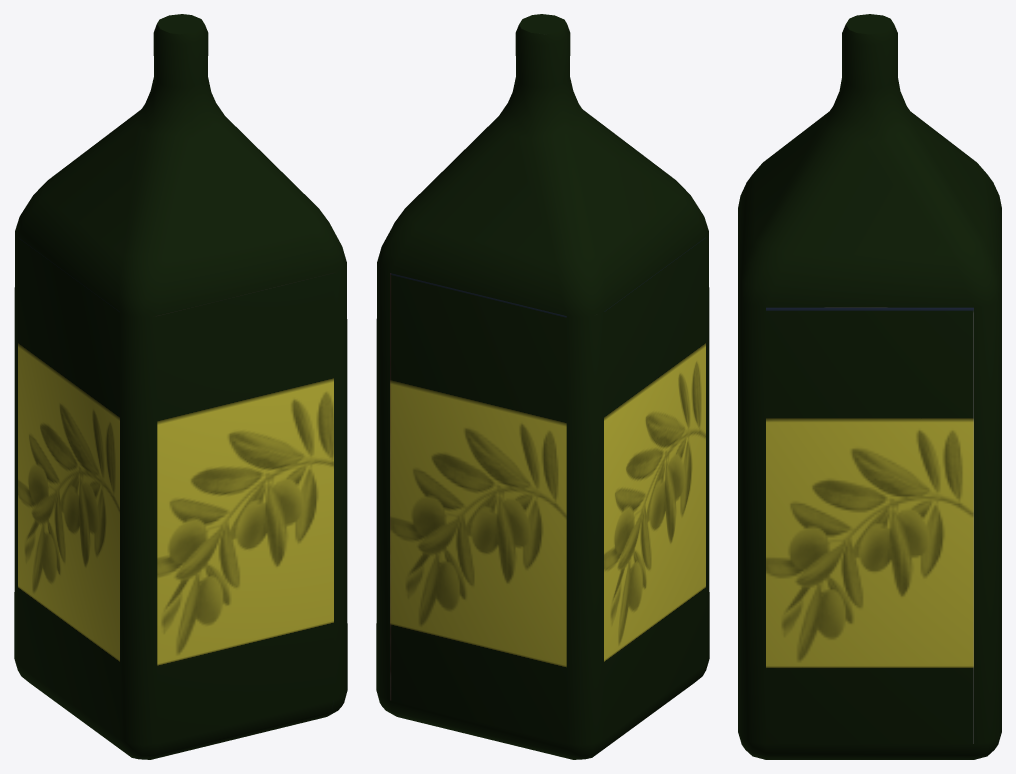
File: oil.fbx
3 renders of one model, left to right at view 1: azimuth 30°, elevation 25°; view 2: azimuth 150°, elevation 25°; view 3: azimuth 270°, elevation 25°, orthographic. The views are drawn at different scales.
Visible parts, largest first — view 1: Cube.008; view 2: Cube.008; view 3: Cube.008.
Part boxes in pixels (box(x1,y1,x2,y2)): Cube.008: box(14, 14, 347, 759); Cube.008: box(376, 14, 709, 759); Cube.008: box(738, 14, 1001, 759).
Size of the model in its own units: 30.2 by 87.02 by 30.2.
